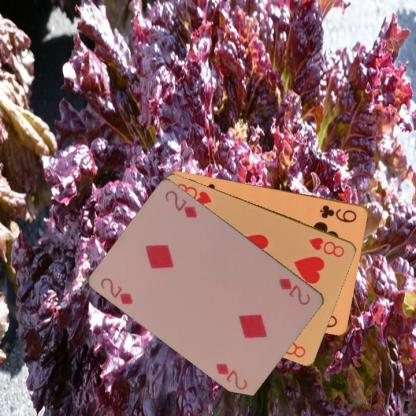2d: (276, 275, 312, 307), (98, 274, 134, 306)
8h: (307, 234, 346, 259)
9c: (317, 202, 358, 224)
